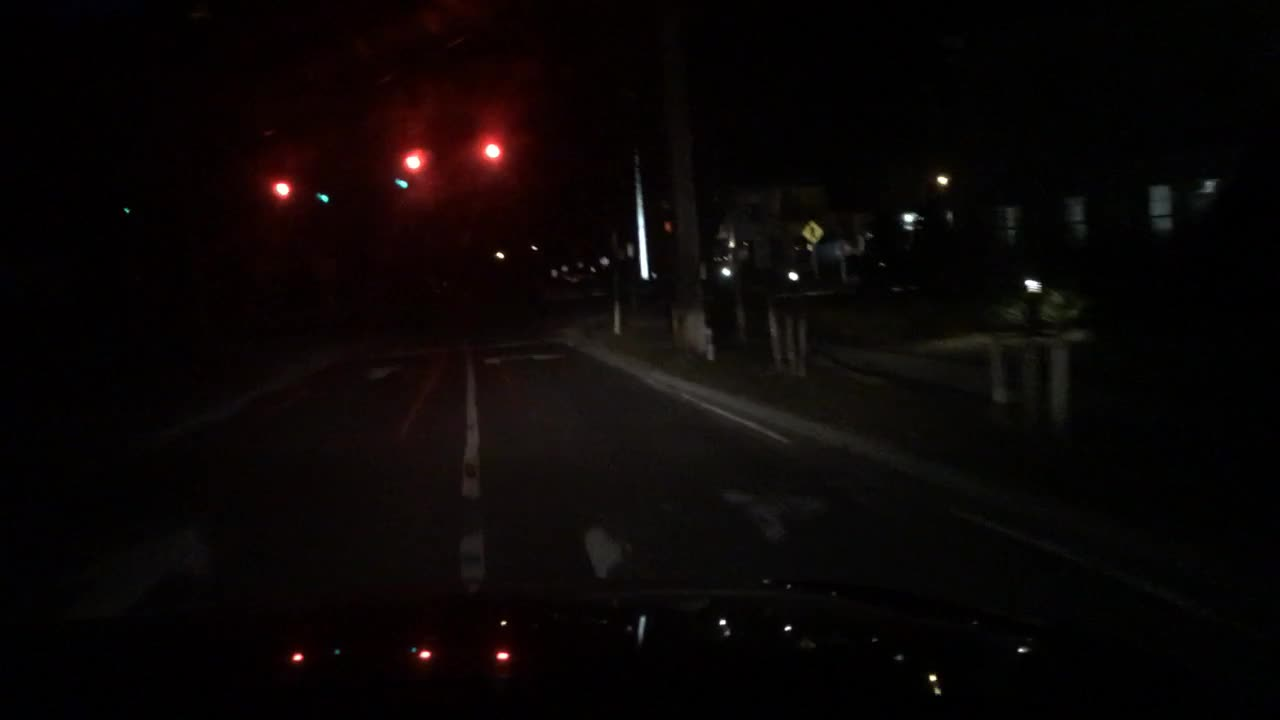traffic light: (311, 156, 327, 209), (271, 159, 290, 199), (483, 142, 504, 178), (393, 144, 407, 198), (406, 146, 419, 193), (661, 217, 672, 240)
traffic sign: (804, 220, 822, 241)
